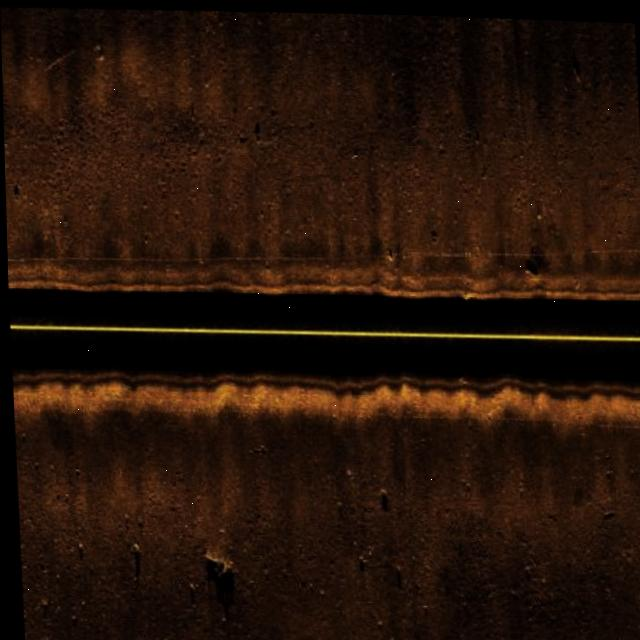mine: (567, 40, 585, 82), (125, 536, 139, 583), (522, 259, 540, 277), (597, 502, 615, 514)
other: (190, 542, 234, 600)
